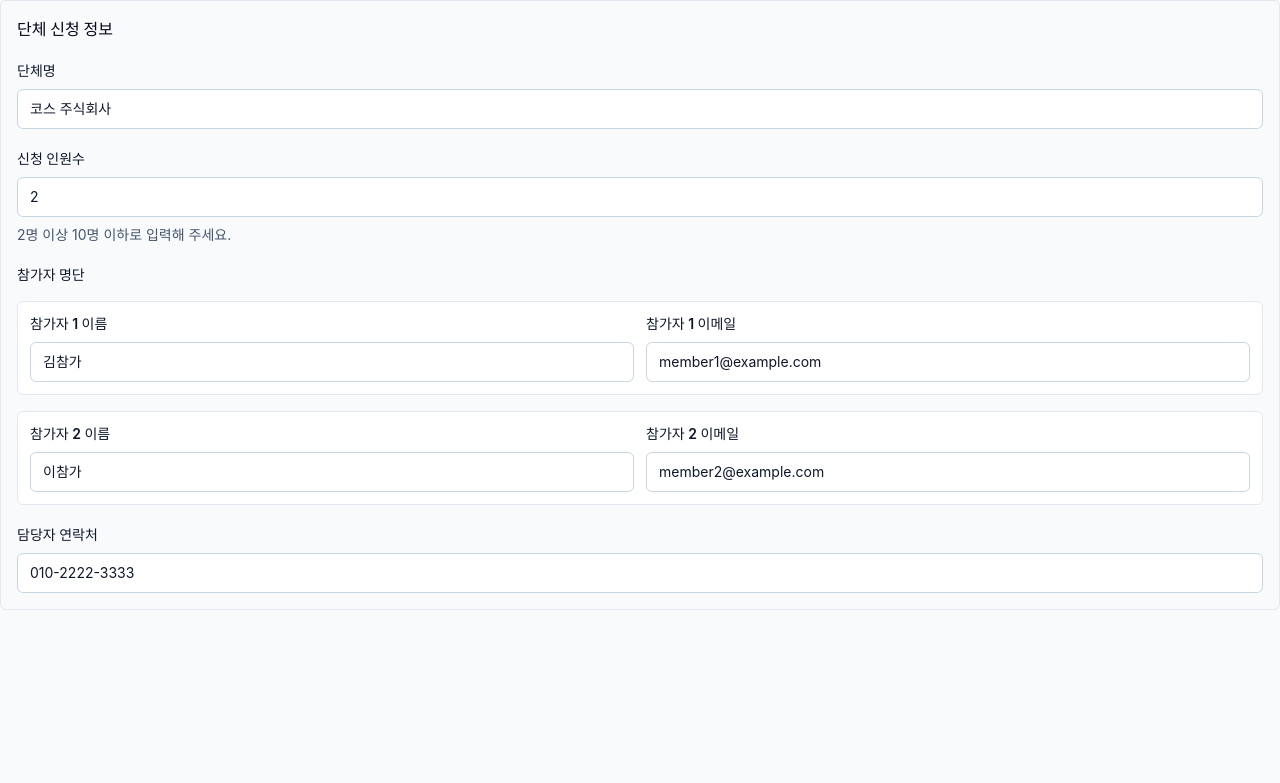
Test case: GroupFields › 신청 인원수 입력 중 빈 값과 leading zero를 안전하게 처리한다
This screenshot has width=1280, height=783.
Clear the field labelled "신청 인원수" at (640, 197), box 17,177 -> 1263,217
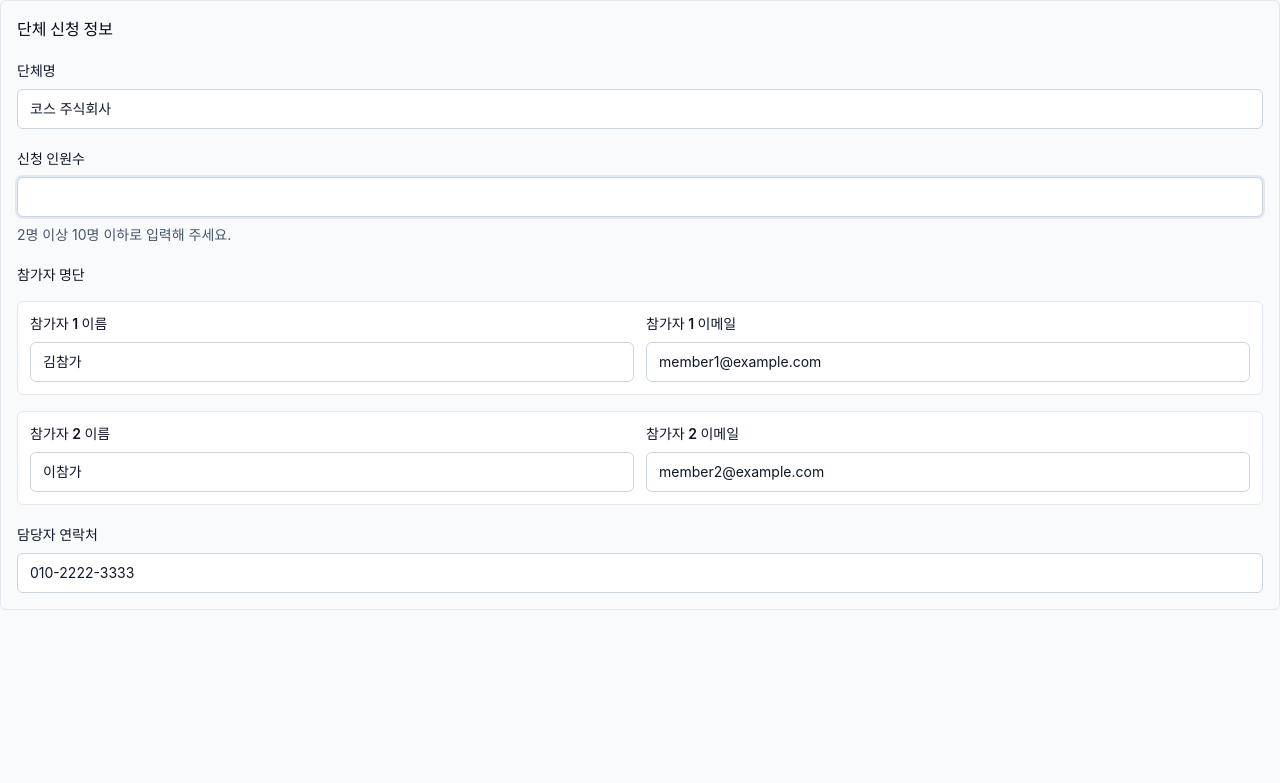
Type "010" into the field labelled "신청 인원수" at (640, 197), box 17,177 -> 1263,217
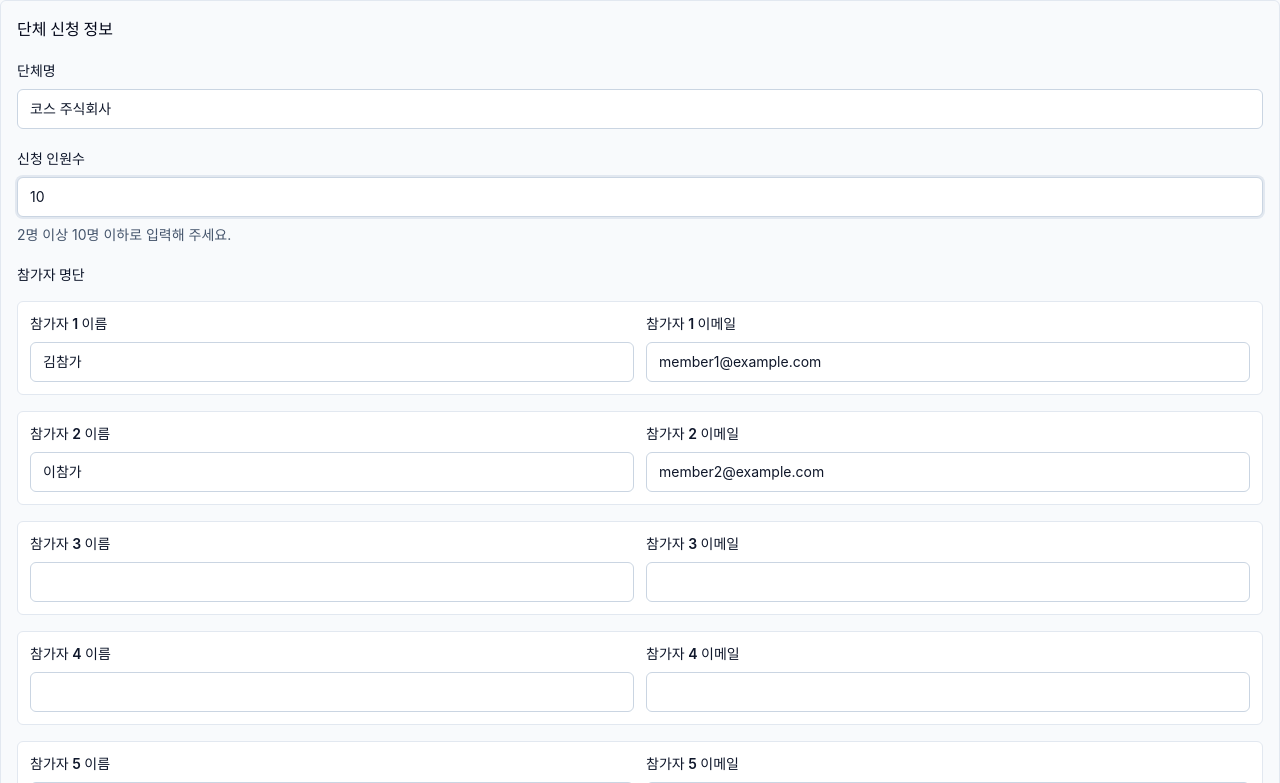
Expected: the field labelled "신청 인원수" holds "10", 17,177 -> 1263,217
